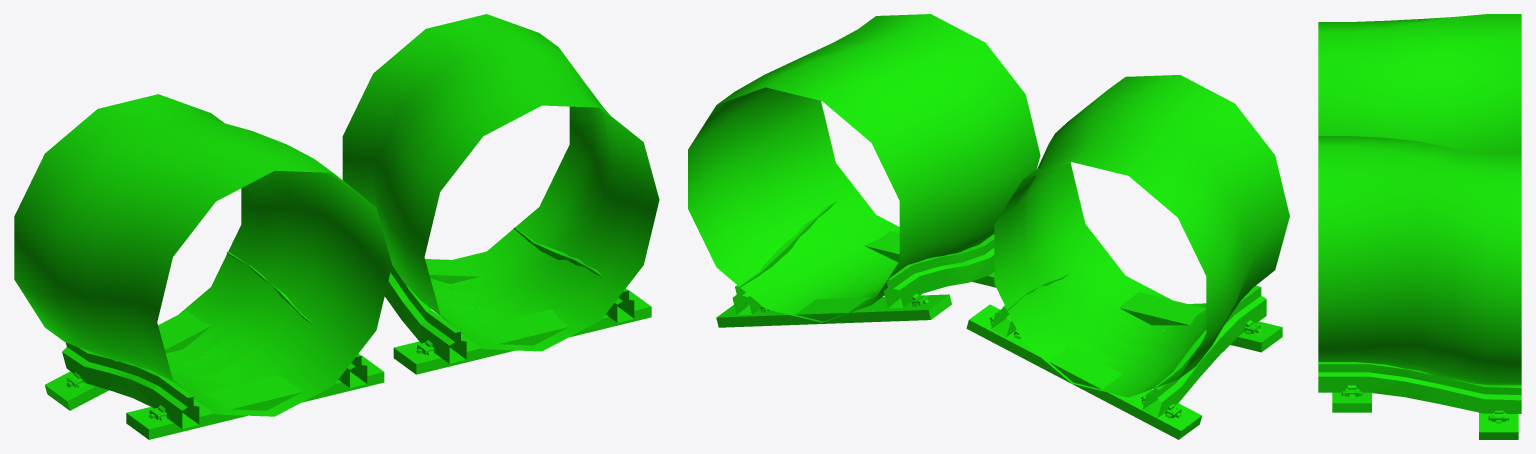
Rendered from ST-roll v2.FBX.
3 views of the same model, side by side, from view 1: azimuth 30°, elevation 25°; view 2: azimuth 150°, elevation 25°; view 3: azimuth 270°, elevation 25° (orthographic). The views are drawn at different scales.
Parts seen in each view (by area): view 1: Cylinder044, Cylinder051, rail stright089, rail stright110; view 2: Cylinder051, Cylinder044, rail stright089, rail stright110; view 3: Cylinder051, Cylinder044, rail stright110.
Boxes of the visible parts, left/top/right/bottom form: Cylinder044: left=14, top=94, right=391, bottom=416; Cylinder051: left=342, top=14, right=659, bottom=351; rail stright089: left=45, top=251, right=384, bottom=439; rail stright110: left=385, top=227, right=651, bottom=374; Cylinder051: left=688, top=14, right=1040, bottom=322; Cylinder044: left=994, top=75, right=1289, bottom=397; rail stright089: left=966, top=273, right=1282, bottom=439; rail stright110: left=716, top=201, right=995, bottom=327; Cylinder051: left=1318, top=136, right=1521, bottom=385; Cylinder044: left=1318, top=14, right=1521, bottom=154; rail stright110: left=1318, top=362, right=1521, bottom=439.
Bounding box in the file's own units: 331 × 159 × 120.
